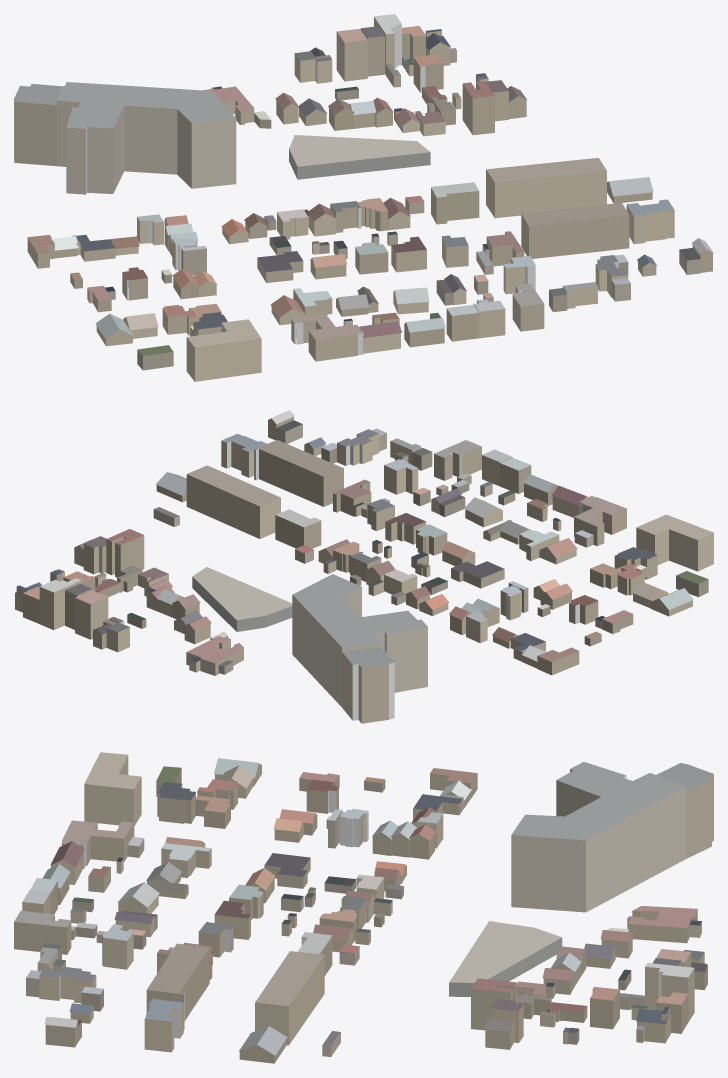
The picture shows the model from 3 angles, top to bottom: view 1: azimuth 30°, elevation 25°; view 2: azimuth 150°, elevation 25°; view 3: azimuth 270°, elevation 25°; orthographic projection. The views are drawn at different scales.
Parts seen in each view (by area): view 1: tuile; view 2: tuile; view 3: tuile.
Part boxes in pixels (x1=…): tuile: x1=14, y1=14, x2=713, y2=381; tuile: x1=15, y1=410, x2=713, y2=723; tuile: x1=14, y1=752, x2=713, y2=1063.
Bounding box in the file's own units: 264 × 33.37 × 259.
